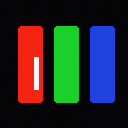4 line_v: (34, 57, 38, 89)
